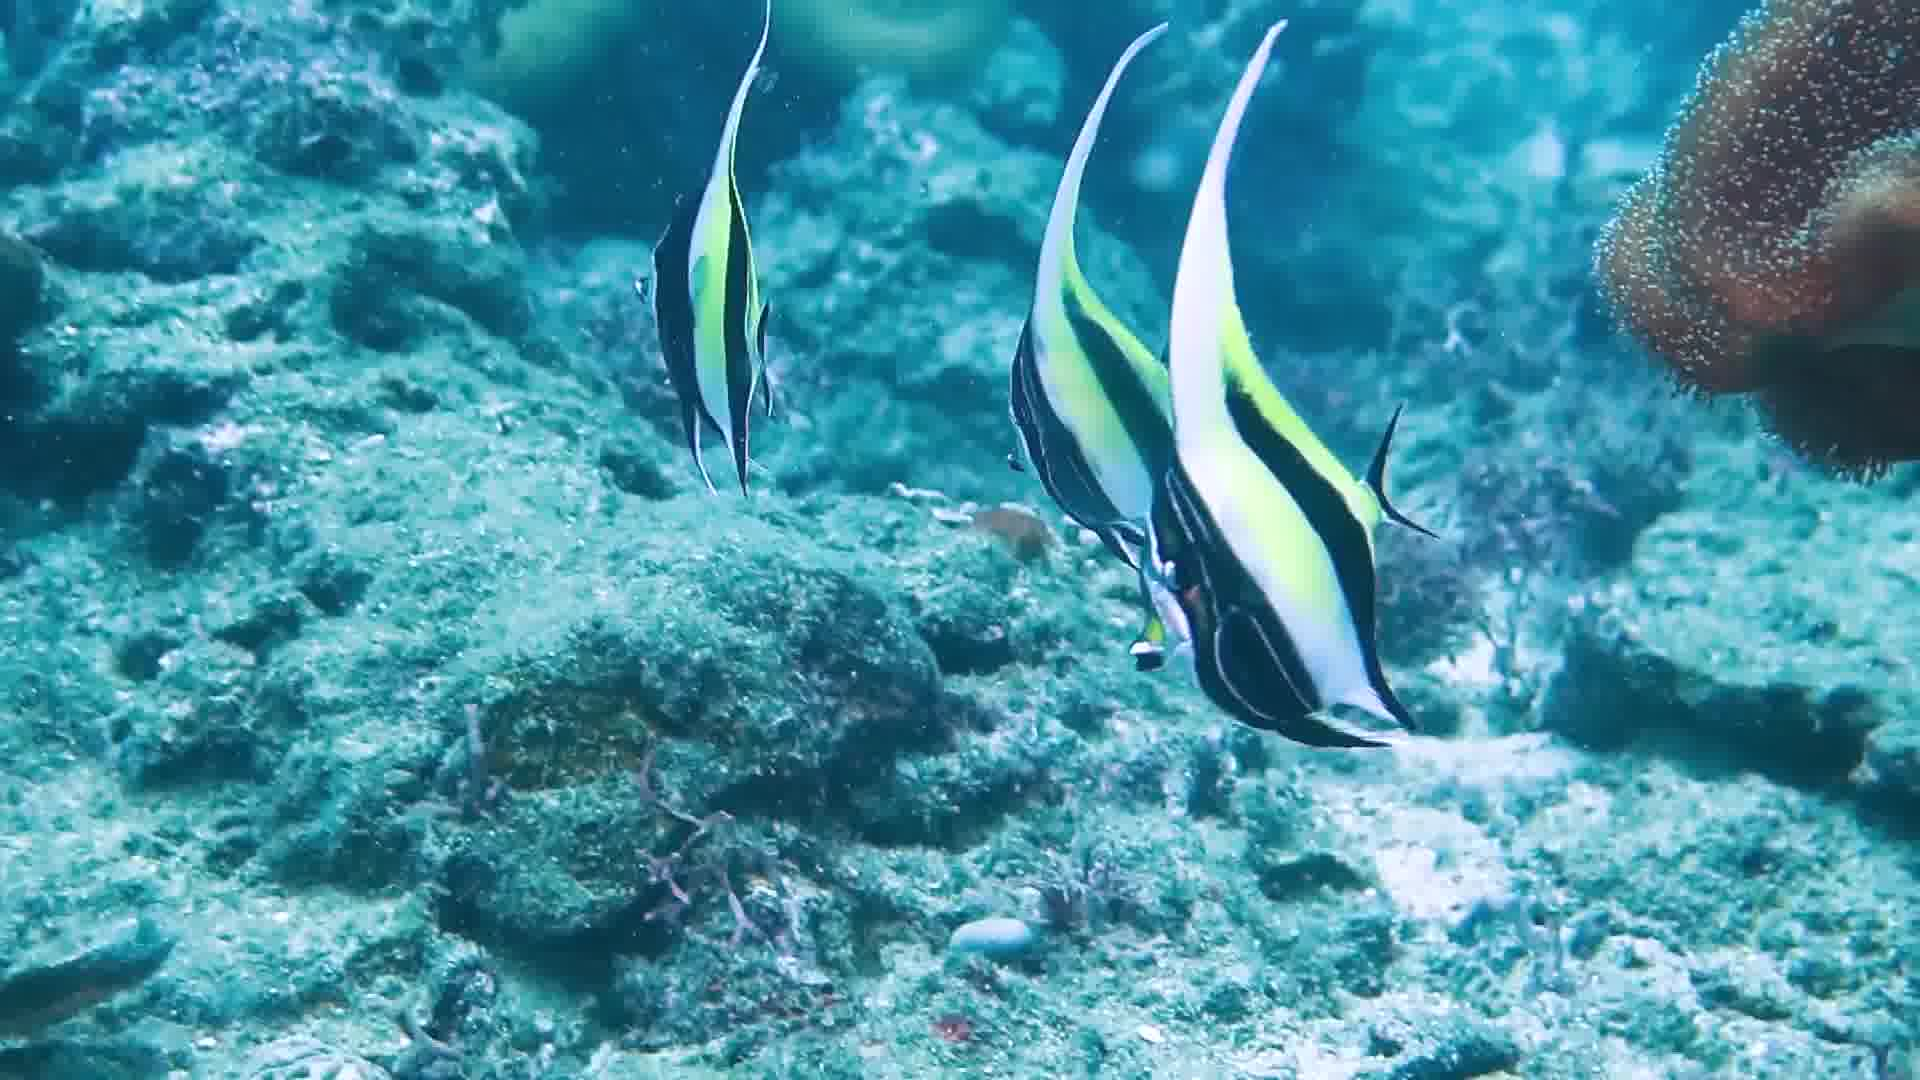Zanclus cornutus: (1153, 225, 1404, 764), (626, 145, 843, 533), (967, 194, 1192, 529)
